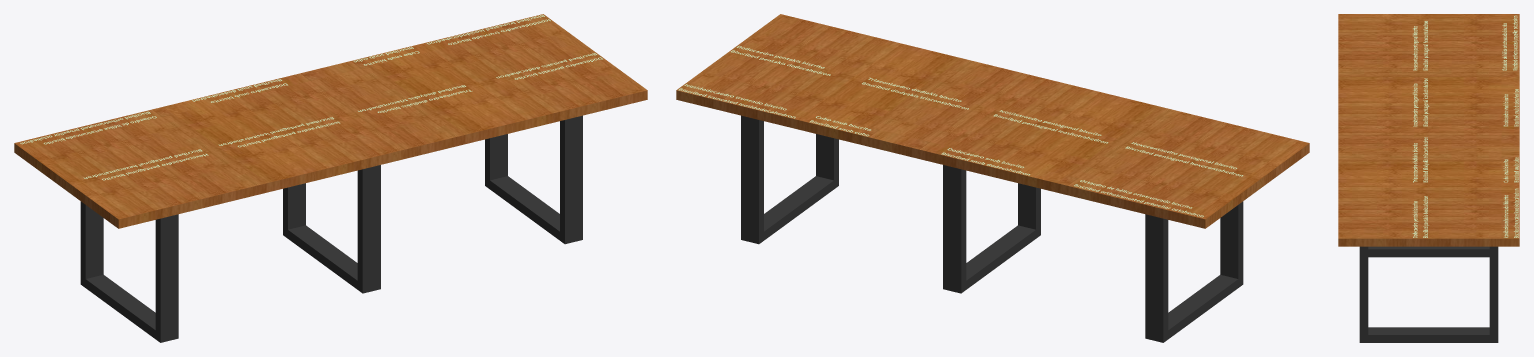
File: biscribed2.glb
The picture shows the model from 3 angles, left to right: view 1: azimuth 30°, elevation 25°; view 2: azimuth 150°, elevation 25°; view 3: azimuth 270°, elevation 25°; orthographic projection. The views are drawn at different scales.
Visible parts, largest first — view 1: object 1, Composant#1 (×3), Octaedro de héli, Hexecontaedro pe, Icosidodecaedro #2; view 2: object 1, Composant#1 (×3), Octaedro de héli, Hexecontaedro pe, Icosidodecaedro #2, Icositetraedro p; view 3: object 1, Composant#1 (×2), Octaedro de héli, Hexecontaedro pe, Icosidodecaedro #2, Icositetraedro p, Triacontaedro di, Dodecaedro penta, Dodecaedro snub #1, Cubo snub biscri.
Part boxes in pixels (bbox=[...]): object 1: bbox=[14, 14, 647, 228]; Composant#1 (×3): bbox=[80, 115, 582, 342]; Octaedro de héli: bbox=[20, 111, 156, 144]; Hexecontaedro pe: bbox=[83, 149, 208, 180]; Icosidodecaedro #2: bbox=[427, 14, 550, 44]; object 1: bbox=[676, 14, 1309, 228]; Composant#1 (×3): bbox=[741, 115, 1243, 342]; Octaedro de héli: bbox=[1074, 180, 1203, 217]; Hexecontaedro pe: bbox=[1125, 142, 1243, 176]; Icosidodecaedro #2: bbox=[678, 84, 795, 118]; Icositetraedro p: bbox=[993, 110, 1108, 143]; object 1: bbox=[1338, 14, 1519, 246]; Composant#1 (×2): bbox=[1359, 246, 1498, 342]; Octaedro de héli: bbox=[1502, 15, 1518, 70]; Hexecontaedro pe: bbox=[1413, 21, 1429, 70]; Icosidodecaedro #2: bbox=[1503, 188, 1518, 237]; Icositetraedro p: bbox=[1413, 78, 1429, 126]; Triacontaedro di: bbox=[1412, 137, 1428, 182]; Dodecaedro penta: bbox=[1412, 196, 1428, 237]; Dodecaedro snub #1: bbox=[1503, 89, 1518, 126]; Cubo snub biscri: bbox=[1503, 157, 1518, 182].
Bounding box in the file's own units: 2.93 × 0.771 × 1.
Materials: 3 (1 with a texture image).
